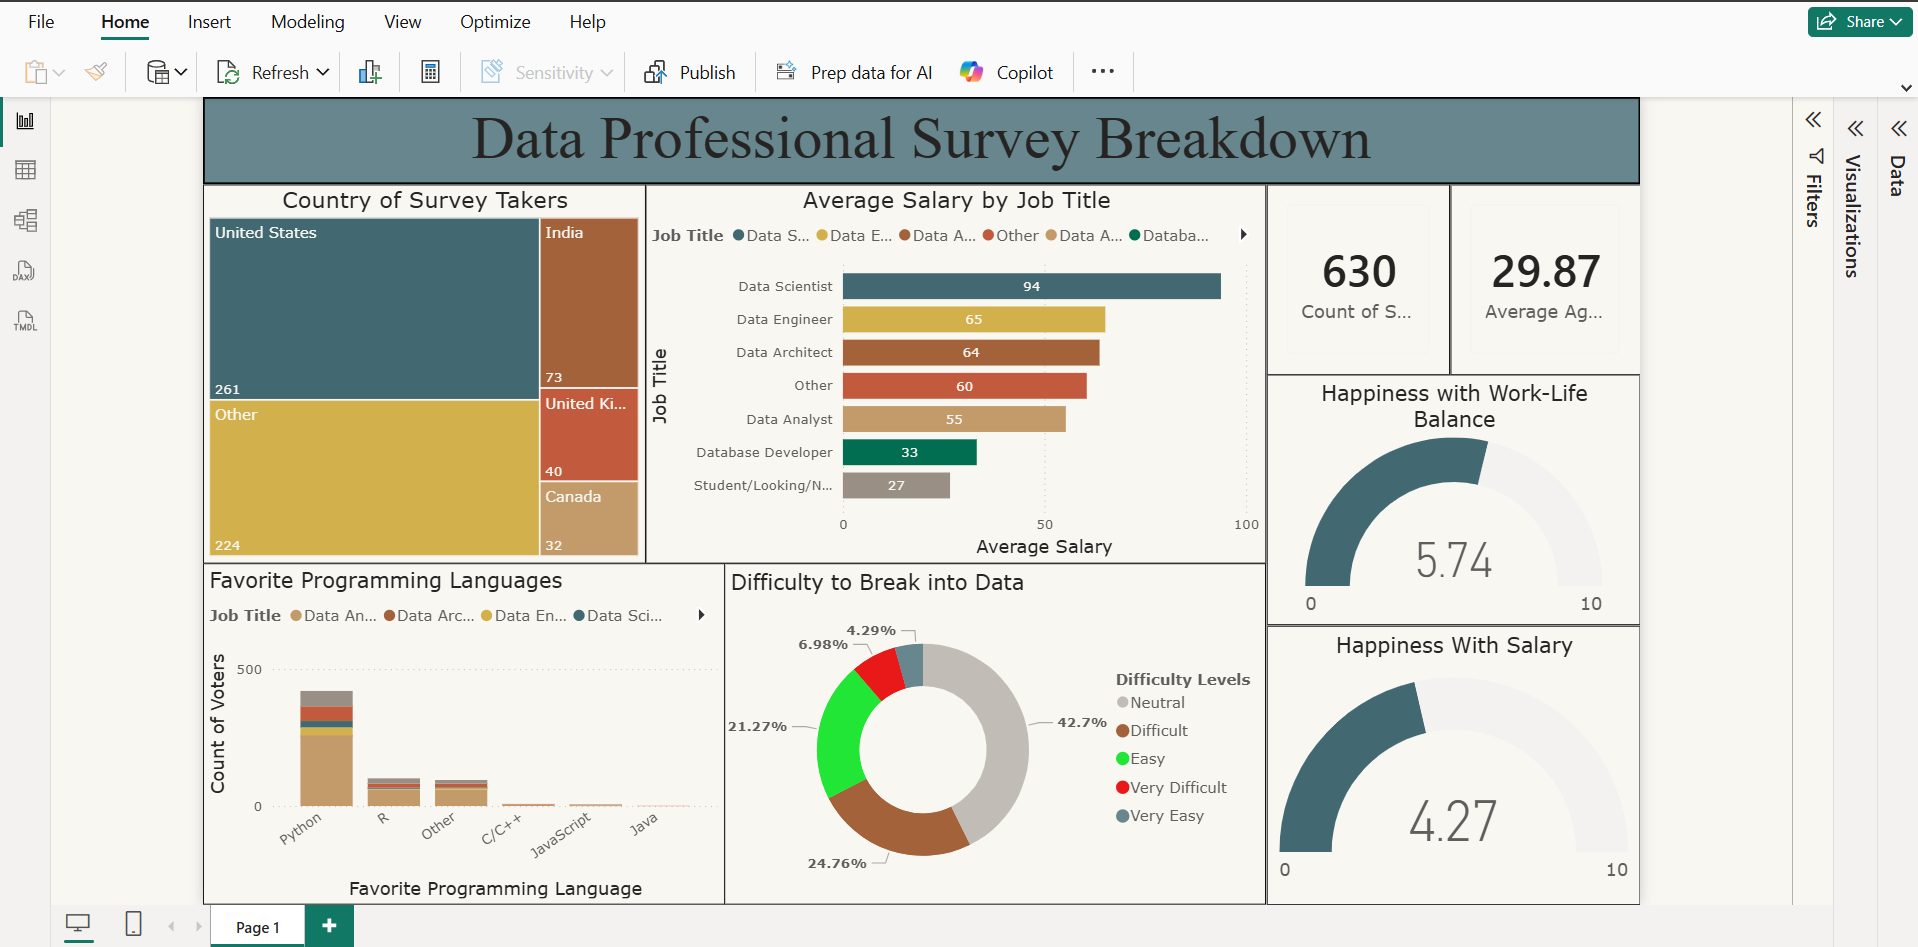

The dashboard page shown, as its layout file describes it:
{"tool":"powerbi","page":{"name":"Page 1","canvas":[1280,720],"ordinal":0},"visuals":[{"type":"textbox","box":[0,0,1280.3,78],"z":0},{"type":"cardVisual","fields":{"Data":["CountNonNull(Data Professional Survey.Unique ID)"]},"box":[947.5,78,163.4,169.4],"z":1000},{"type":"cardVisual","fields":{"Data":["Avg(Data Professional Survey.Q10 - Current Age)"]},"box":[1110.9,78,169.4,169.4],"z":2000},{"type":"barChart","title":"Average Salary by Job Title","fields":{"Category":["Data Professional Survey.Q1 - Which Title Best Fits your Current Role?.1"],"Series":["Data Professional Survey.Q1 - Which Title Best Fits your Current Role?.1"],"Y":["Avg(Data Professional Survey.Average Salary)"]},"box":[394.3,78,553.2,337.3],"z":3000},{"type":"columnChart","title":"Favorite Programming Languages","fields":{"Category":["Data Professional Survey.Q5 - Favorite Programming Language.1"],"Y":["CountNonNull(Data Professional Survey.Unique ID)"],"Series":["Data Professional Survey.Q1 - Which Title Best Fits your Current Role?.1"]},"box":[0,415.3,464.7,304.3],"z":3001},{"type":"treemap","title":"Country of Survey Takers","fields":{"Group":["Data Professional Survey.Q11 - Which Country do you live in?.1"],"Values":["CountNonNull(Data Professional Survey.Q11 - Which Country do you live in?.1)"]},"box":[0,78,394.3,337.3],"z":3002},{"type":"gauge","title":"Happiness with Work-Life Balance","fields":{"Y":["Avg(Data Professional Survey.Q6 - How Happy are you in your Current Position with the following? (Work/Life Balance))"],"MinValue":["Min(Data Professional Survey.Q6 - How Happy are you in your Current Position with the following? (Work/Life Balance))"],"MaxValue":["Max(Data Professional Survey.Q6 - How Happy are you in your Current Position with the following? (Work/Life Balance))1"]},"box":[947.5,247.4,332.8,223.4],"z":3003},{"type":"gauge","title":"Happiness With Salary","fields":{"Y":["Avg(Data Professional Survey.Q6 - How Happy are you in your Current Position with the following? (Salary))"],"MinValue":["Min(Data Professional Survey.Q6 - How Happy are you in your Current Position with the following? (Salary))"],"MaxValue":["Max(Data Professional Survey.Q6 - How Happy are you in your Current Position with the following? (Salary))"]},"box":[947.5,470.7,332.8,248.9],"z":3004},{"type":"donutChart","title":"Difficulty to Break into Data","fields":{"Category":["Data Professional Survey.Q7 - How difficult was it for you to break into Data?"],"Y":["CountNonNull(Data Professional Survey.Q7 - How difficult was it for you to break into Data?)"]},"box":[464.7,415.3,482.7,304.3],"z":3005}]}

Visuals, with their boxes on the page's 1280x720 design canvas (x1, y1, x2, y2). These are canvas units, not pixel positions in the 1918x947 screenshot, which may show the page scaled, cropped or inside an application window:
textbox: region(0, 0, 1280, 78)
cardVisual - CountNonNull(Data Professional Survey.Unique ID): region(948, 78, 1111, 247)
cardVisual - Avg(Data Professional Survey.Q10 - Current Age): region(1111, 78, 1280, 247)
"Average Salary by Job Title" barChart: region(394, 78, 948, 415)
"Favorite Programming Languages" columnChart: region(0, 415, 465, 720)
"Country of Survey Takers" treemap: region(0, 78, 394, 415)
"Happiness with Work-Life Balance" gauge: region(948, 247, 1280, 471)
"Happiness With Salary" gauge: region(948, 471, 1280, 720)
"Difficulty to Break into Data" donutChart: region(465, 415, 947, 720)
